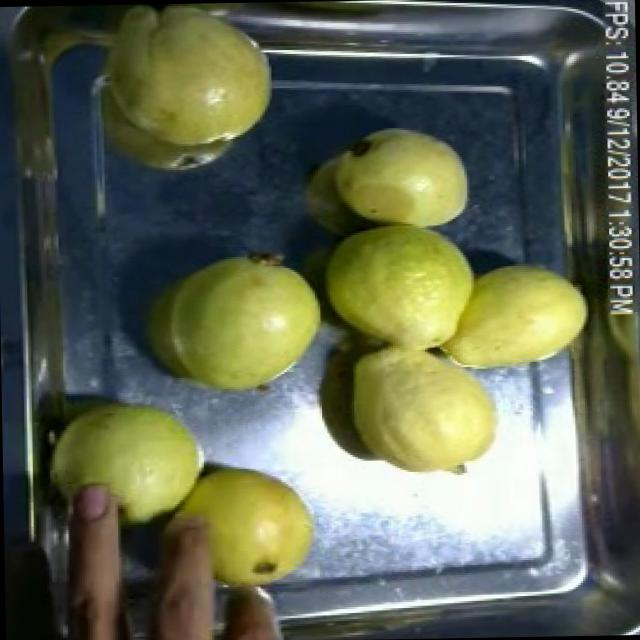Fruit: (69, 1, 283, 164), (138, 244, 336, 405), (26, 382, 217, 543), (136, 454, 332, 609), (334, 336, 512, 489), (311, 219, 484, 358), (426, 251, 602, 380), (322, 119, 478, 228)
